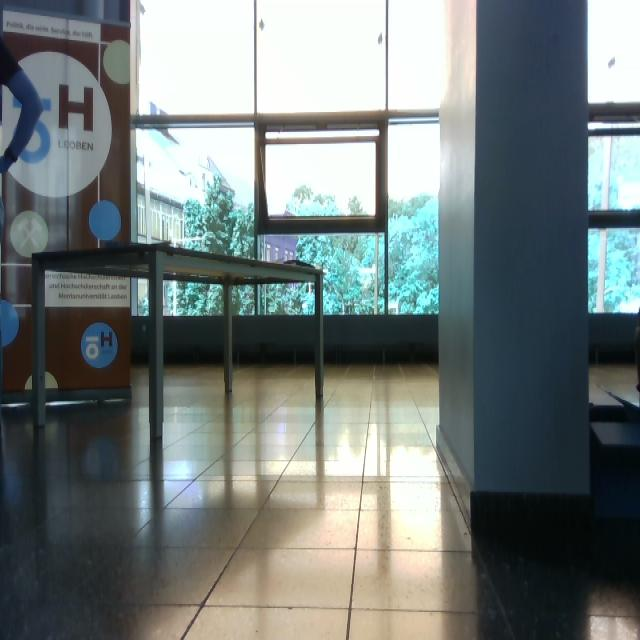door: (1, 3, 134, 407)
light bulb: (10, 211, 49, 259), (89, 200, 122, 242), (1, 298, 20, 348), (25, 370, 59, 392), (259, 18, 265, 32)
pillar: (437, 1, 592, 521)
table: (29, 241, 329, 444)
window: (131, 1, 445, 320)
